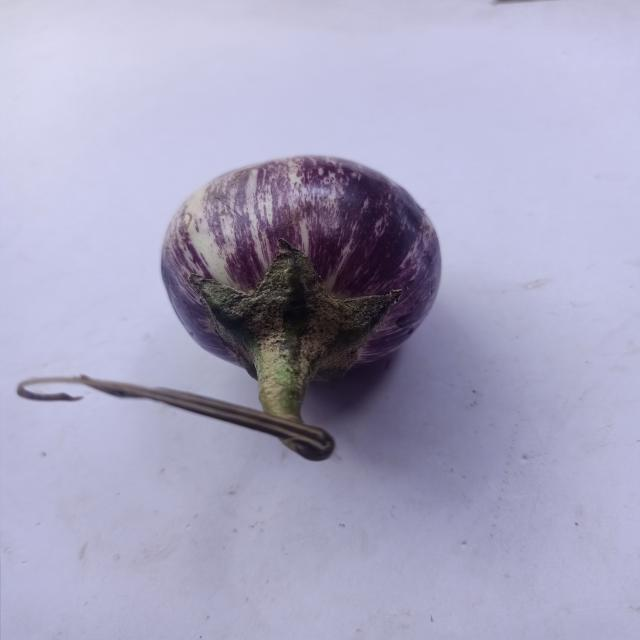Eggplant: (13, 144, 464, 486)
